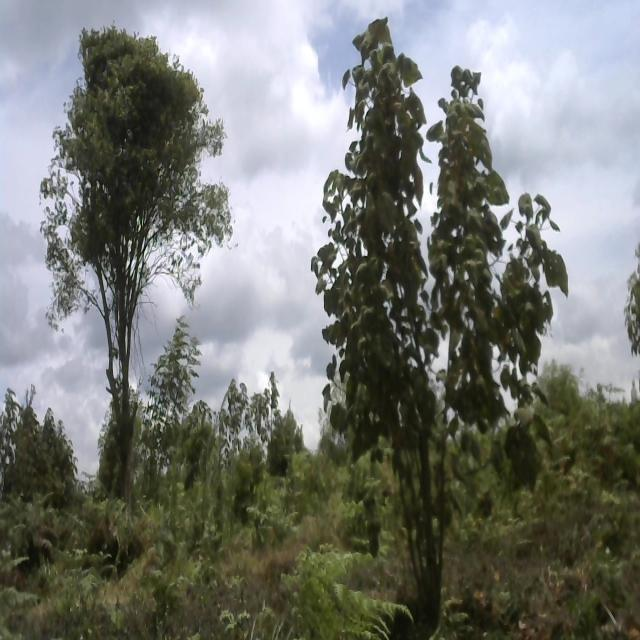Vitex keniensis: (303, 12, 579, 622)
other: (38, 27, 221, 545)
